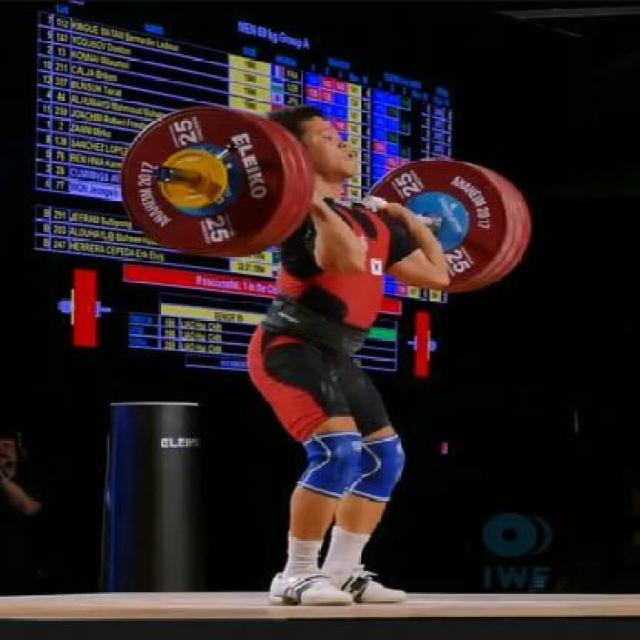barbell: (113, 104, 289, 265)
